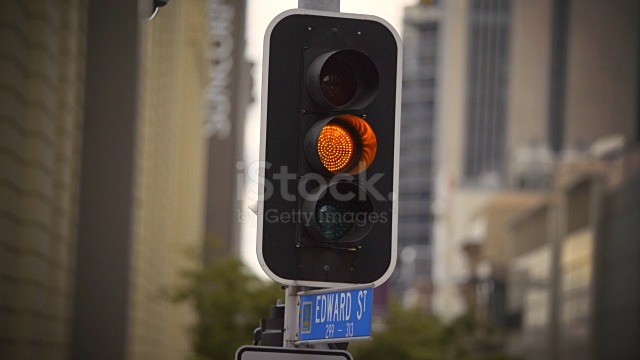yellow traffic light: (259, 16, 411, 293)
